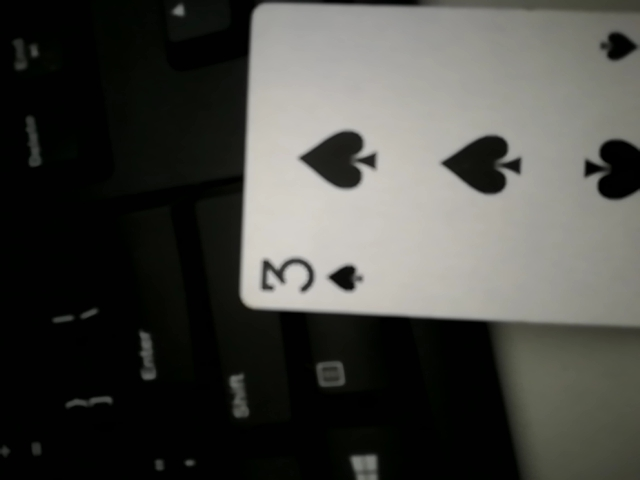ht 3: (230, 1, 640, 343)
